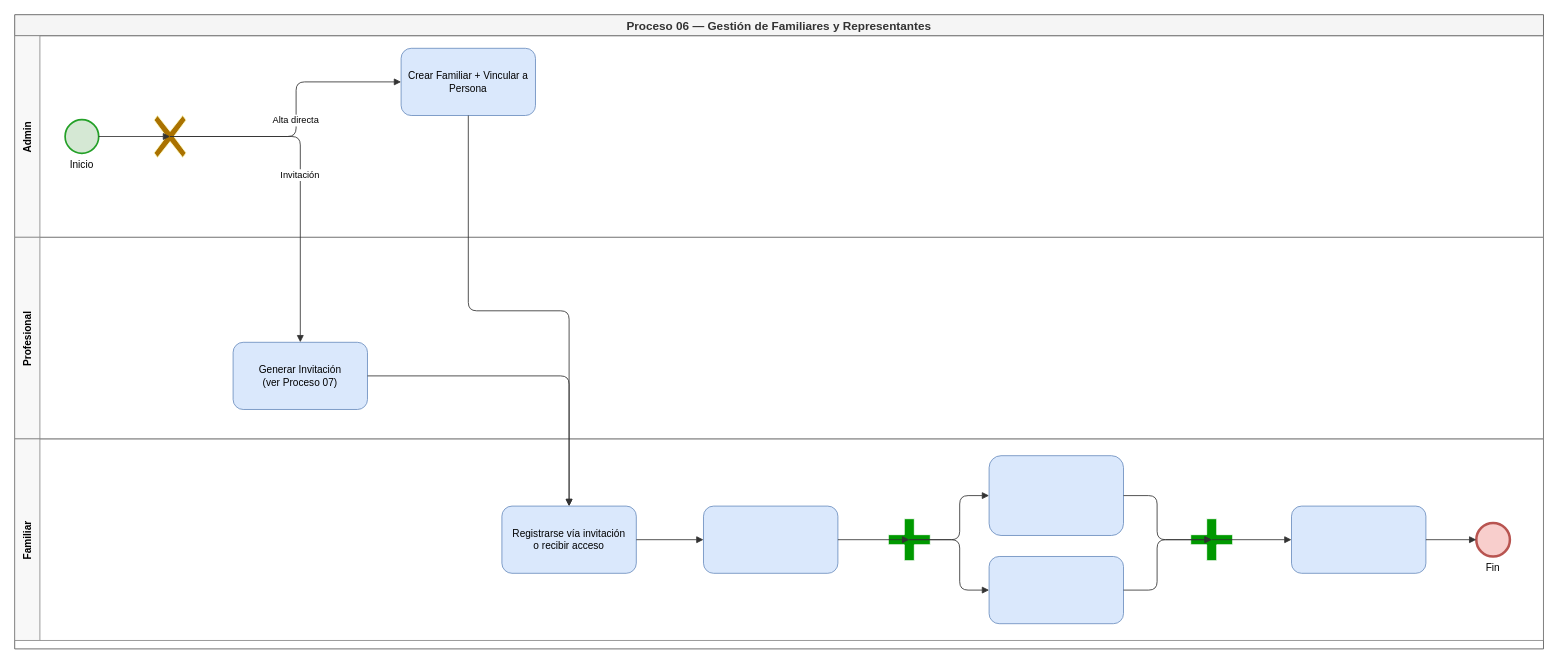
The diagram is 1558 pixels wide and 664 high, and some of its shapes have lost their labels. The shapes that lost their labels are listed below. From the top down, each one's centre as x and y in pixels, then its label:
At point 169,136: "¿Alta directa o invitación?".
At point 1056,495: "Ver actividades de personas a cargo".
At point 770,539: "Login Portal Familiar".
At point 1358,539: "Enviar/recibir mensajes al profesional".
At point 1056,590: "Ver reportes aprobados (PDF disponible)".
